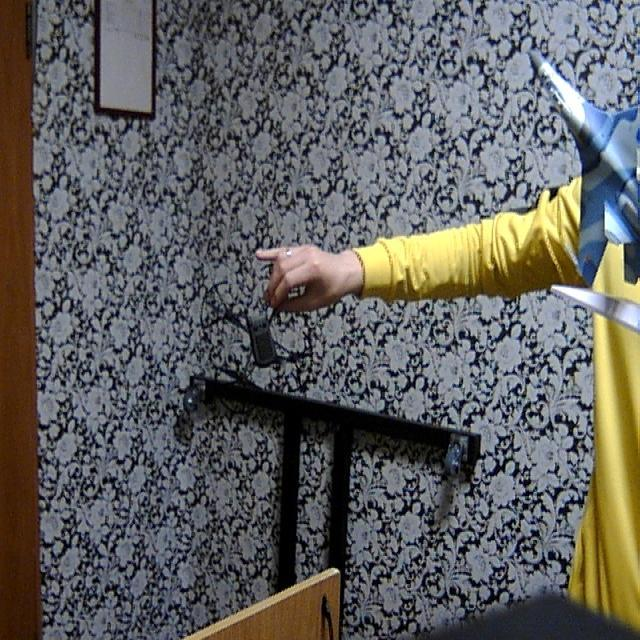drone: (194, 269, 318, 421)
